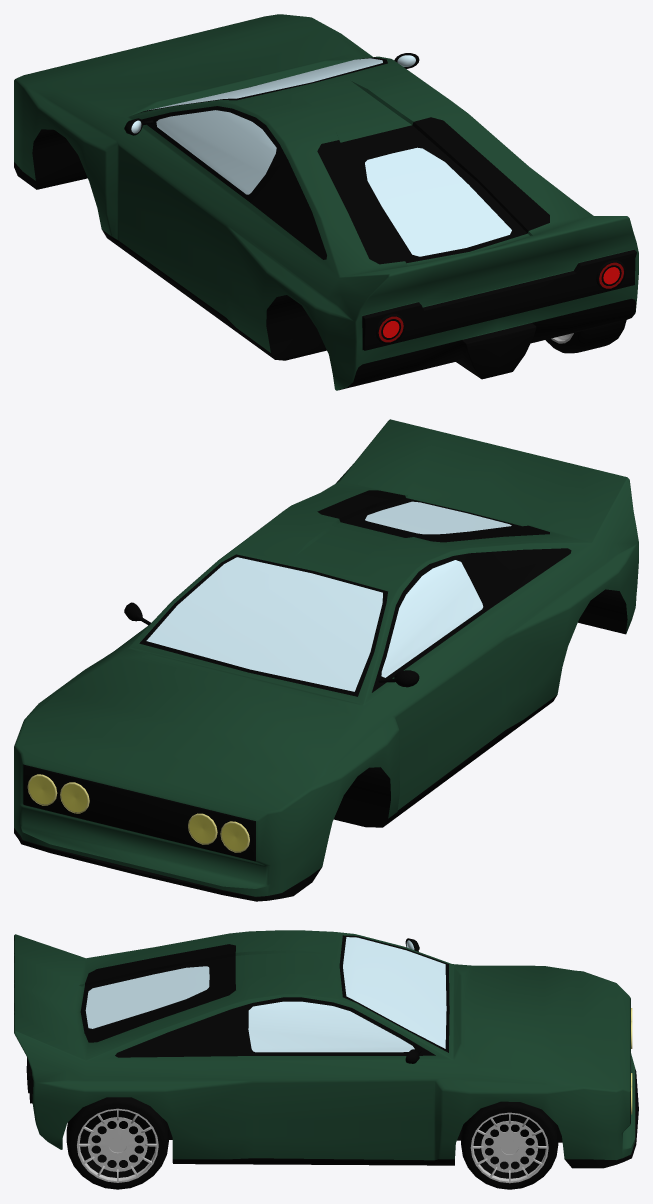
File: Evo37.fbx
The picture shows the model from 3 angles, top to bottom: view 1: azimuth 30°, elevation 25°; view 2: azimuth 150°, elevation 25°; view 3: azimuth 270°, elevation 25°; orthographic projection. The views are drawn at different scales.
Visible parts, largest first — view 1: SM_MainBody, SM_RearTires; view 2: SM_MainBody; view 3: SM_MainBody, SM_RearTires, SM_FrontTires.
Part boxes in pixels (x1,y1,x2,y2): SM_MainBody: (14,14,638,390); SM_RearTires: (545,320,626,353); SM_MainBody: (14,419,638,901); SM_MainBody: (14,930,638,1168); SM_RearTires: (66,1097,168,1189); SM_FrontTires: (461,1101,558,1189).
Bounding box in the file's own units: 1.89 × 4.03 × 1.19.
